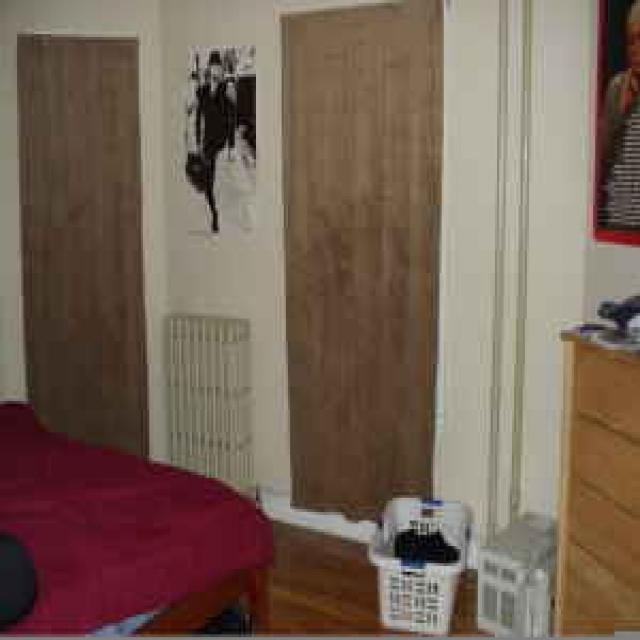basket crop: (367, 492, 465, 634)
bed -occluded-: (2, 398, 271, 634)
box contants: (476, 509, 557, 637)
curtain crop: (277, 6, 442, 523), (17, 31, 143, 449)
floor -X: (4, 461, 636, 634)
poster crop: (183, 46, 252, 236), (589, 0, 636, 242)
radiator occluded: (164, 310, 247, 495)
tallboy: (555, 321, 636, 637)
wall clock: (160, 0, 634, 614), (2, 0, 169, 466)
